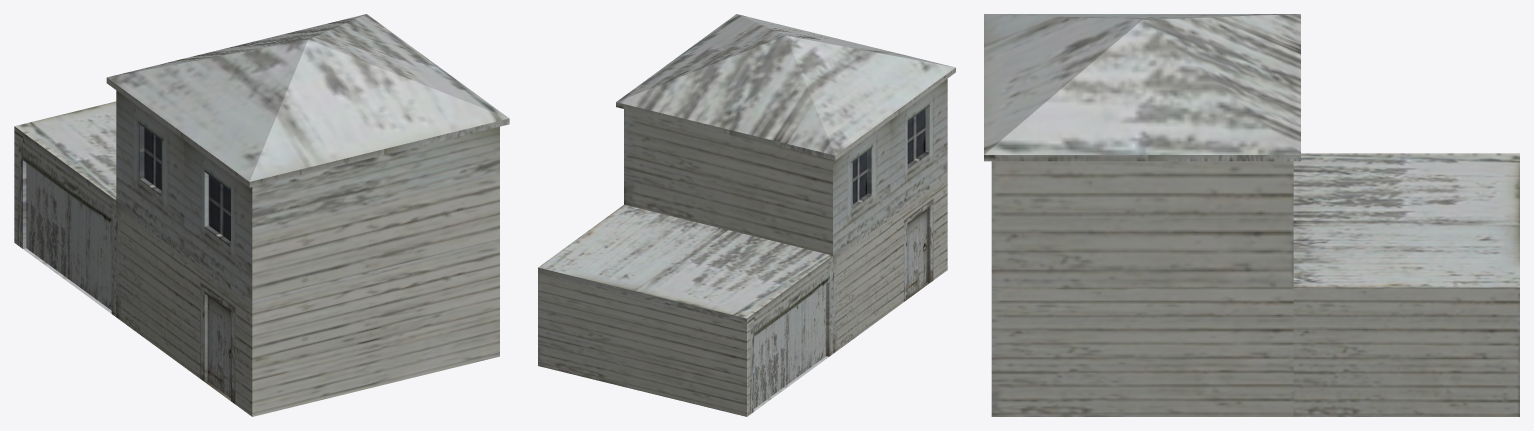
Rendered from House.fbx.
3 views of the same model, side by side, from view 1: azimuth 30°, elevation 25°; view 2: azimuth 150°, elevation 25°; view 3: azimuth 270°, elevation 25° (orthographic). The views are drawn at different scales.
Visible parts, largest first — view 1: House; view 2: House; view 3: House.
Boxes of the visible parts, x1,y1,x2,y2 form: House: [14, 14, 509, 416]; House: [538, 14, 955, 416]; House: [984, 14, 1519, 416].
Bounding box in the file's own units: 6.7 × 10.77 × 7.32.
1 material, 1 textured.
